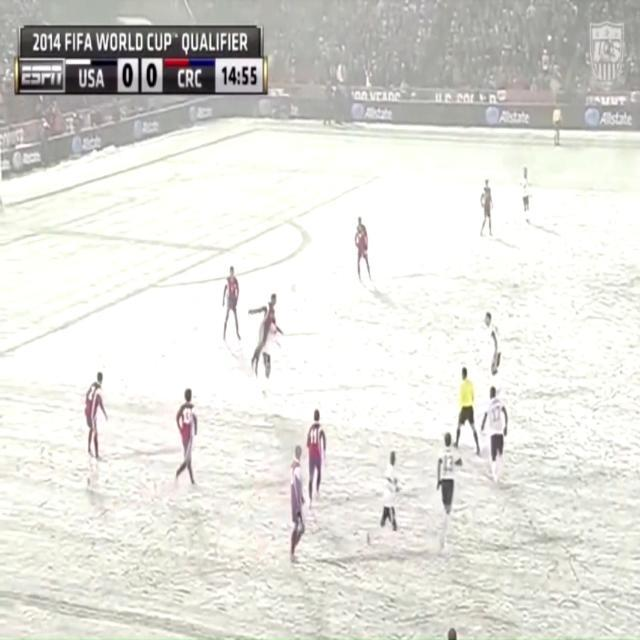ball: (289, 280, 298, 300)
player: (435, 427, 467, 564), (80, 365, 116, 472), (285, 444, 315, 569), (173, 385, 203, 503), (303, 403, 333, 517), (381, 449, 411, 562), (484, 386, 514, 491), (222, 259, 250, 356), (251, 287, 279, 377), (478, 308, 506, 394), (352, 212, 377, 299), (263, 313, 281, 402), (479, 174, 499, 248), (520, 161, 537, 232)
referee: (454, 363, 484, 470), (550, 103, 568, 159)
